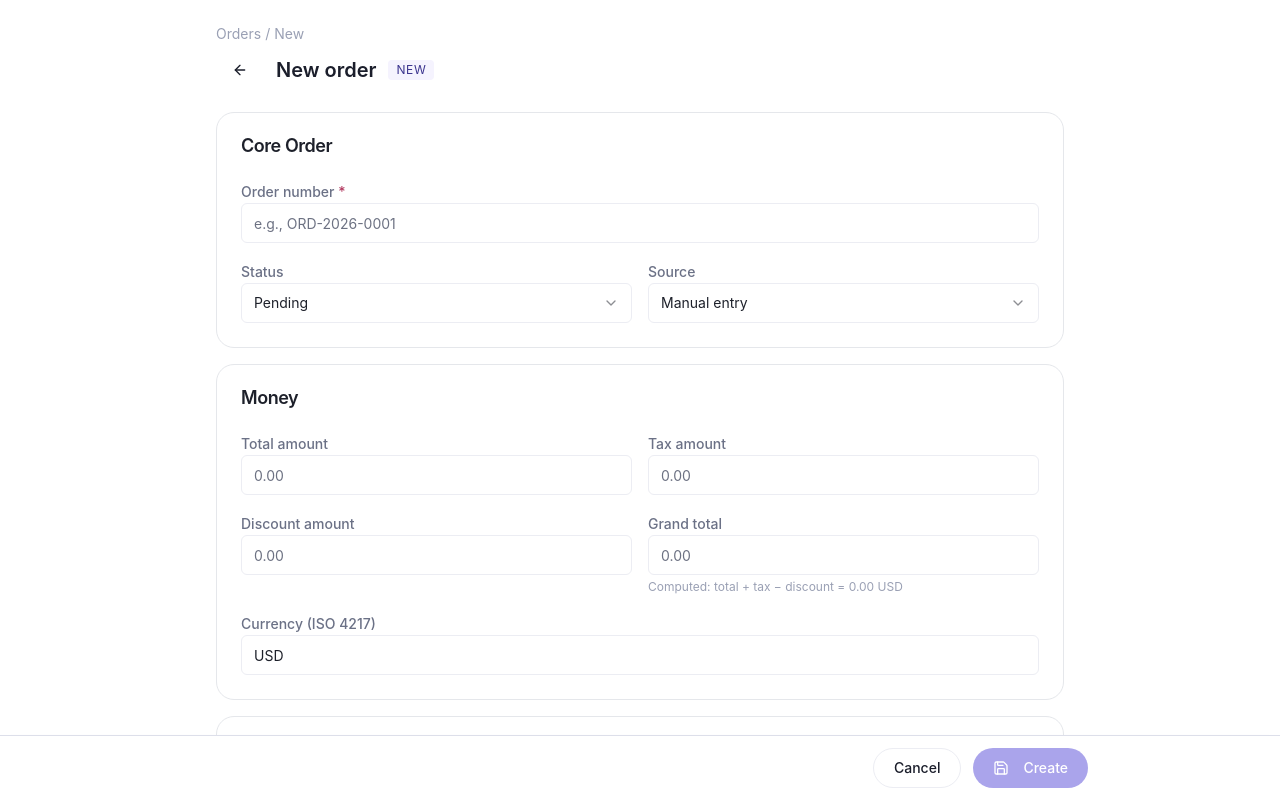
Scenario: KAN-945 — OrderForm › (7) Validation: missing contact + Save → required error
The width and height of the screenshot is (1280, 800).
Type "ORD-1" into the field labelled "Order number *".
click(640, 223); type("ORD-1")  # box [241, 203, 1039, 243]
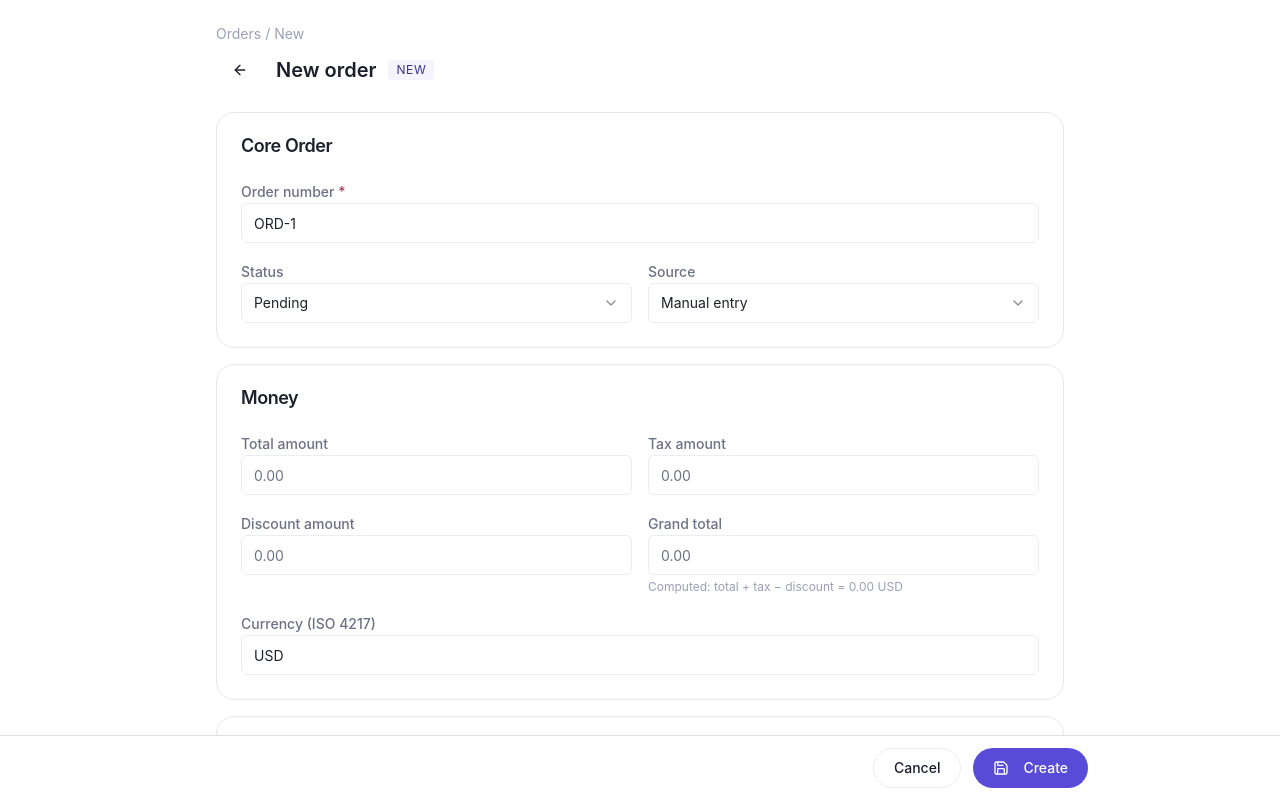
Click the button "Create".
click(1031, 768)  # box [973, 748, 1088, 788]
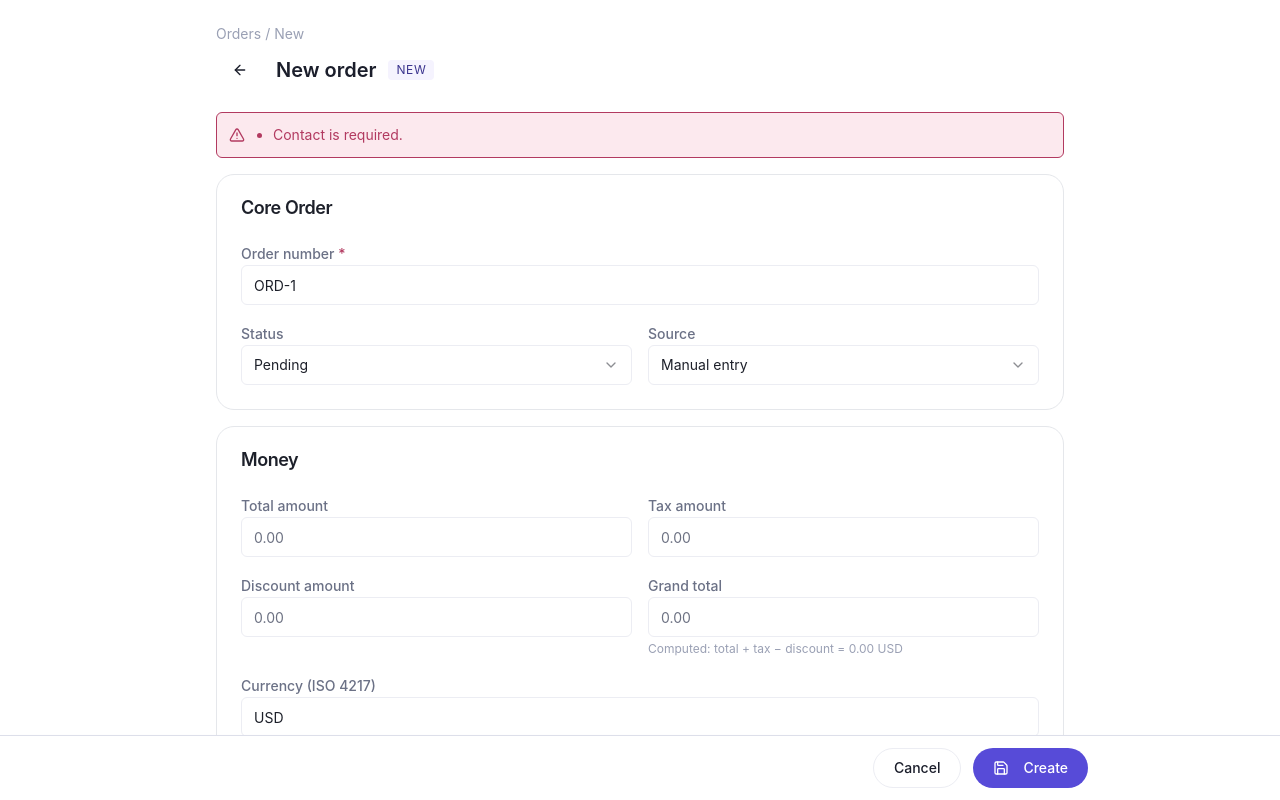
Result: the list item "Contact is required." is shown at [273, 125, 403, 145]
